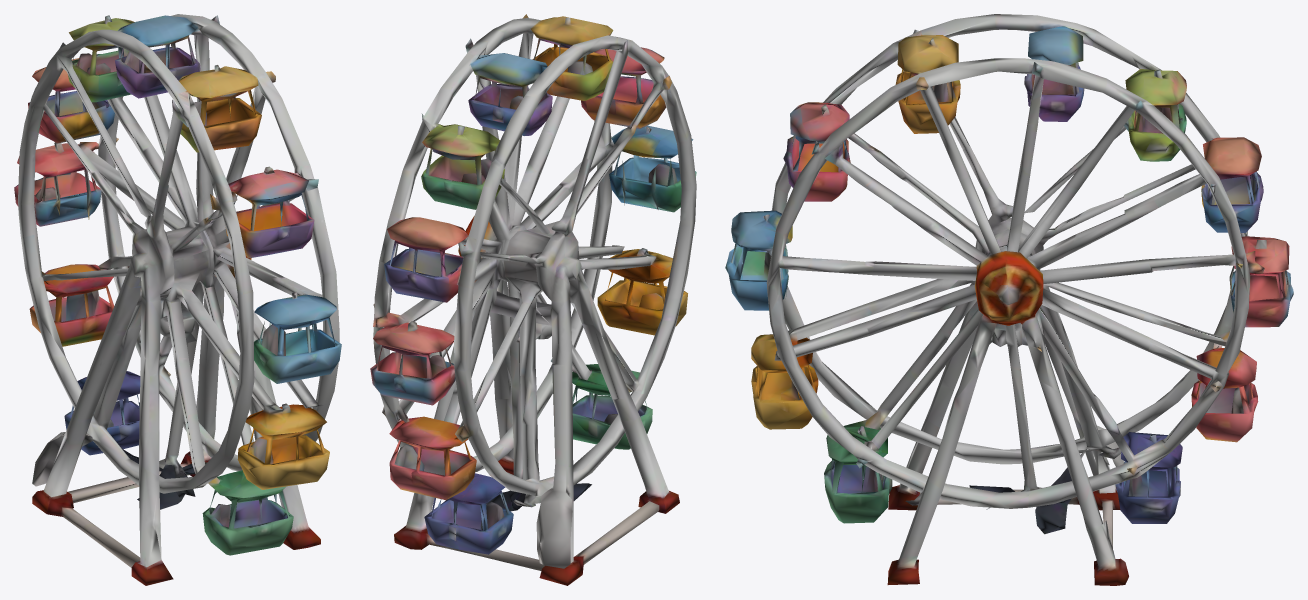
File: ferris-wheel.glb
3 views of the same model, side by side, from view 1: azimuth 30°, elevation 25°; view 2: azimuth 150°, elevation 25°; view 3: azimuth 270°, elevation 25° (orthographic). The views are drawn at different scales.
Parts seen in each view (by area): view 1: tripo_node_2b9add99-a9d9-4753-8619-9b59b5e326a8; view 2: tripo_node_2b9add99-a9d9-4753-8619-9b59b5e326a8; view 3: tripo_node_2b9add99-a9d9-4753-8619-9b59b5e326a8.
Boxes of the visible parts, x1,y1,x2,y2 form: tripo_node_2b9add99-a9d9-4753-8619-9b59b5e326a8: (14,14,341,585); tripo_node_2b9add99-a9d9-4753-8619-9b59b5e326a8: (370,14,696,585); tripo_node_2b9add99-a9d9-4753-8619-9b59b5e326a8: (725,14,1293,585).
Size of the model in its own units: 0.375 by 0.987 by 0.9989.
1 material, 1 textured.
